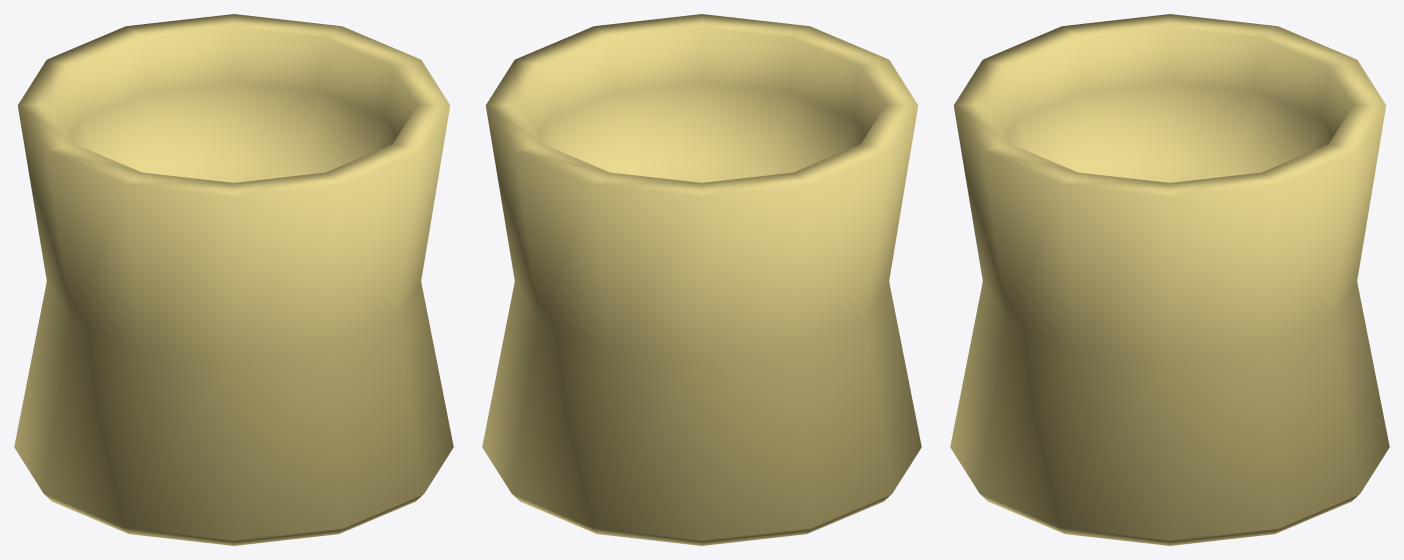
File: usu.fbx
3 renders of one model, left to right at view 1: azimuth 30°, elevation 25°; view 2: azimuth 150°, elevation 25°; view 3: azimuth 270°, elevation 25°, orthographic.
Parts seen in each view (by area): view 1: 円.001; view 2: 円.001; view 3: 円.001.
Boxes of the visible parts, x1=… form: 円.001: x1=14, y1=14, x2=453, y2=545; 円.001: x1=482, y1=14, x2=921, y2=545; 円.001: x1=950, y1=14, x2=1389, y2=545.
Size of the model in its own units: 203 by 180 by 203.
